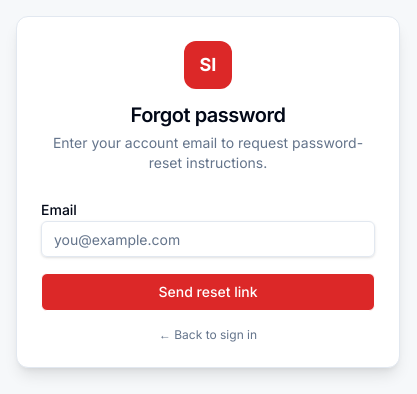
it: password recovery delivery › never renders reset credentials returned by an older backend
Type "person@example.test" into the field labelled "Email". click: [208, 239]
box: [41, 221, 375, 257]
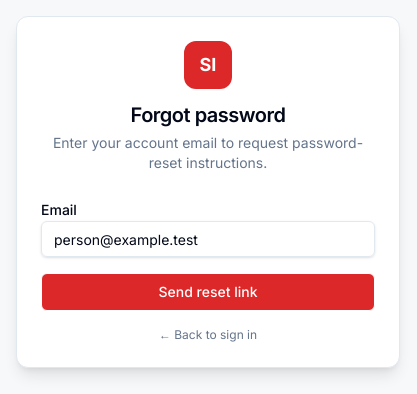
Click the button "Send reset link". click: [208, 292]
box: [41, 273, 375, 311]
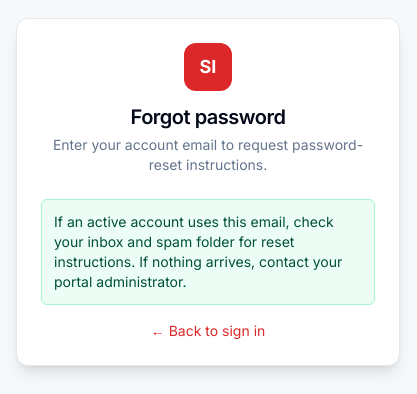
Now the text "If an active account uses this email" is shown, box [54, 213, 342, 290]
